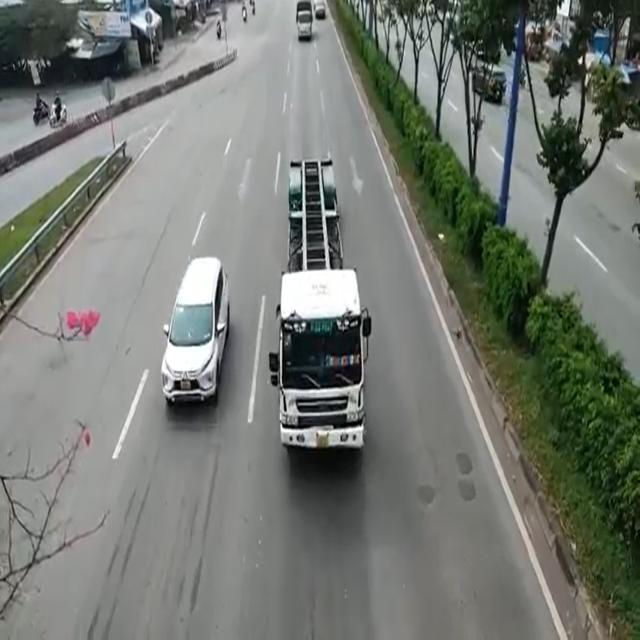car: (165, 260, 226, 408)
truck: (282, 155, 364, 449), (294, 2, 314, 44)
